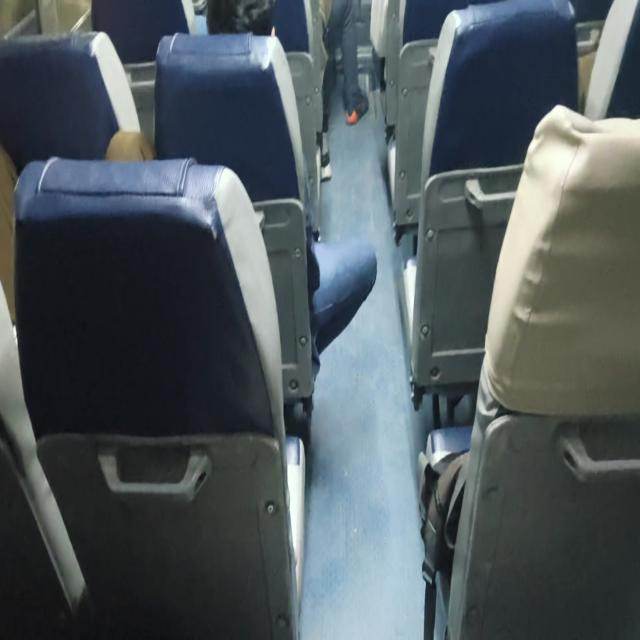person: (420, 103, 639, 637), (105, 24, 377, 402), (322, 0, 369, 126)
